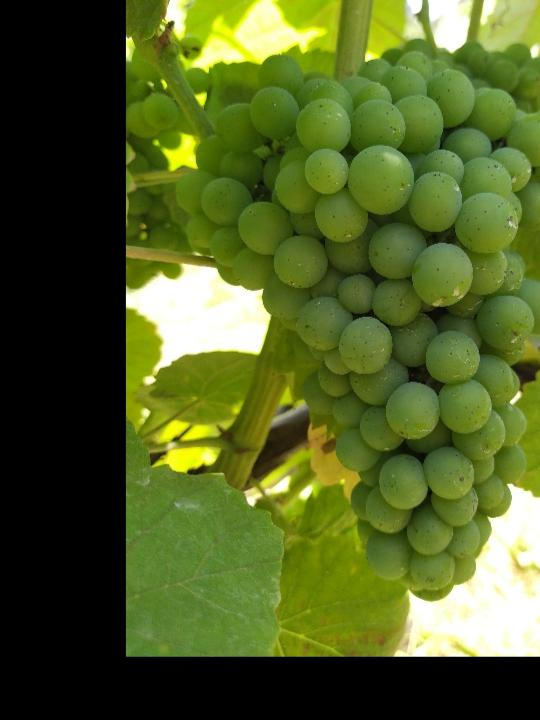grape: (178, 51, 540, 603)
